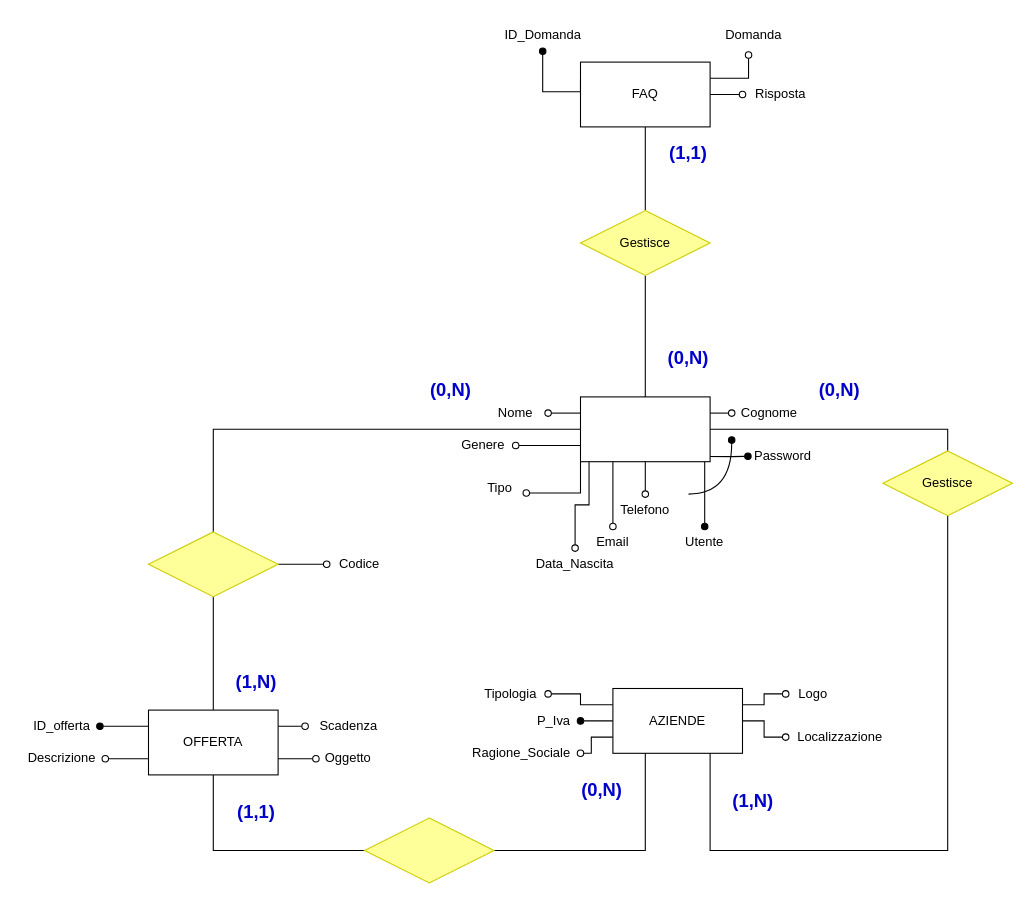
The diagram is 1031 pixels wide and 902 high, and some of its shapes have lost their labels. The shapes that lost their labels are listed below. From the top down, each one's centre as x and y in pixels, then its label:
point 644,429: REGISTRATO
point 212,564: Acquisto
point 428,850: Relazione
